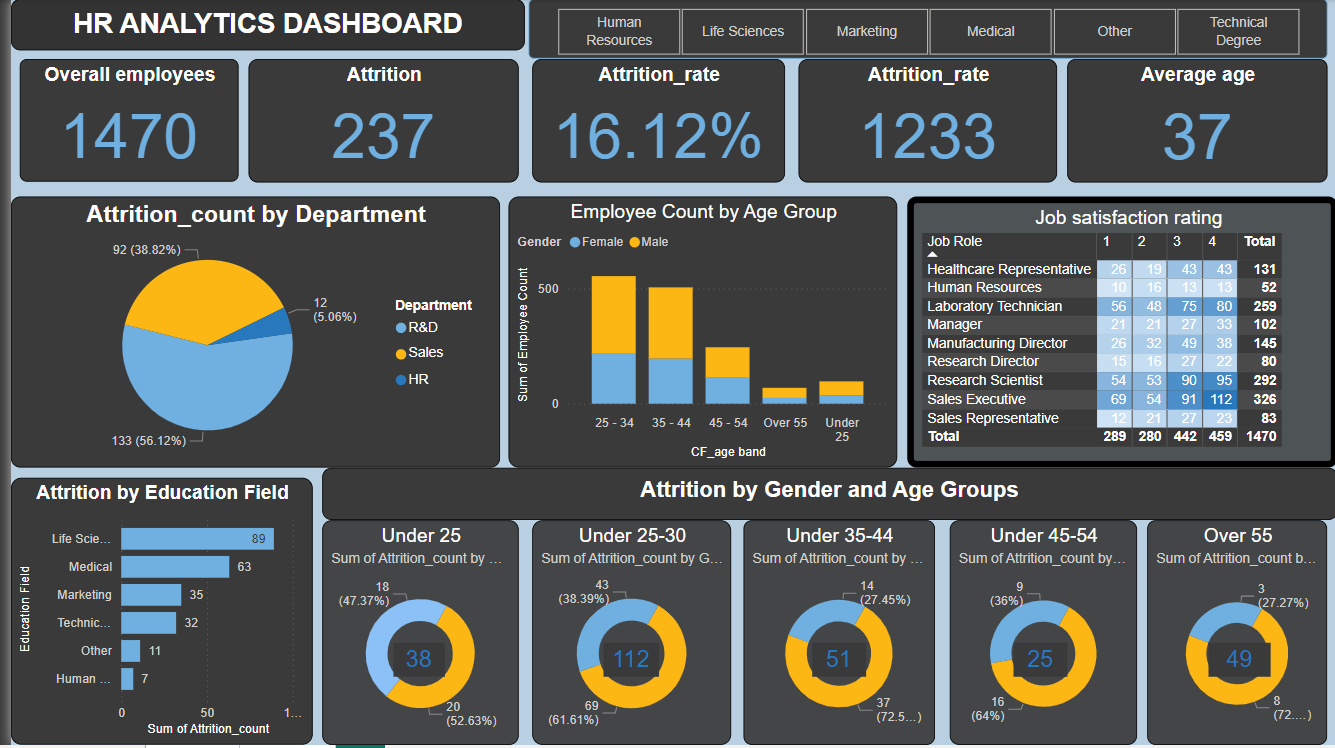

This screenshot's page, from the dashboard's own definition file:
{"tool":"powerbi","page":{"name":"Page 1","canvas":[1280,720],"ordinal":0},"visuals":[{"type":"card","title":"Overall employees","fields":{"Values":["Sum(HR data.Employee Count)"]},"box":[8.4,57.9,211.1,118.2],"z":0},{"type":"card","title":"Attrition","fields":{"Values":["Sum(HR data.Attrition_count)"]},"box":[229.2,57.9,260.6,119.4],"z":1000},{"type":"card","title":"Attrition_rate","fields":{"Values":["HR data.Attition_rate"]},"box":[503.1,57.9,243.7,119.4],"z":2000},{"type":"card","title":"Attrition_rate","fields":{"Values":["HR data.Active employees"]},"box":[760.1,57.9,249.7,119.4],"z":3000},{"type":"card","title":"Average age","fields":{"Values":["Avg(HR data.Age)"]},"box":[1019.4,57.9,250.9,119.4],"z":4000},{"type":"pieChart","title":"Attrition_count by Department","fields":{"Category":["HR data.Department"],"Y":["Sum(HR data.Attrition_count)"]},"box":[0,190.6,471.7,261.8],"z":5000},{"type":"columnChart","title":"Employee Count by Age Group","fields":{"Category":["HR data.CF_age band"],"Y":["Sum(HR data.Employee Count)"],"Series":["HR data.Gender"]},"box":[480.2,190.6,375.2,261.8],"z":6000},{"type":"pivotTable","title":"Job satisfaction rating","fields":{"Rows":["HR data.Job Role"],"Columns":["HR data.Job Satisfaction"],"Values":["Sum(HR data.Employee Count)"]},"box":[865,190.6,415,261.8],"z":7000},{"type":"barChart","title":"Attrition by Education Field","fields":{"Category":["HR data.Education Field"],"Y":["Sum(HR data.Attrition_count)"]},"box":[0,462.4,290.9,258],"z":8000},{"type":"donutChart","title":"Under 25","fields":{"Category":["HR data.Gender"],"Y":["Sum(HR data.Attrition_count)"],"Series":["HR data.CF_age band"]},"box":[300.4,503.1,189.4,217.2],"z":9000},{"type":"textbox","box":[300.4,452.4,979.6,50.7],"z":10000},{"type":"donutChart","title":"Under 25-30","fields":{"Category":["HR data.Gender"],"Y":["Sum(HR data.Attrition_count)"],"Series":["HR data.CF_age band"]},"box":[503.6,503.6,192.1,216.8],"z":11000},{"type":"donutChart","title":"Under 35-44","fields":{"Category":["HR data.Gender"],"Y":["Sum(HR data.Attrition_count)"],"Series":["HR data.CF_age band"]},"box":[707,503.1,184.6,217.2],"z":12000},{"type":"donutChart","title":"Under 45-54","fields":{"Category":["HR data.Gender"],"Y":["Sum(HR data.Attrition_count)"],"Series":["HR data.CF_age band"]},"box":[906,503.1,181,217.2],"z":13000},{"type":"donutChart","title":"Over 55","fields":{"Category":["HR data.Gender"],"Y":["Sum(HR data.Attrition_count)"],"Series":["HR data.CF_age band"]},"box":[1096.7,503.1,173.7,217.2],"z":14000},{"type":"textbox","box":[0,0,495.8,49.5],"z":15000},{"type":"slicer","fields":{"Values":["HR data.Education Field"]},"box":[499.5,0,770.9,57.9],"z":16000},{"type":"card","fields":{"Values":["Sum(HR data.Attrition_count)"]},"box":[369.1,621.6,49.4,32.9],"z":17000},{"type":"card","fields":{"Values":["Sum(HR data.Attrition_count)"]},"box":[572.2,621.6,53.5,32.9],"z":18000},{"type":"card","fields":{"Values":["Sum(HR data.Attrition_count)"]},"box":[773.9,621.6,52.1,32.9],"z":19000},{"type":"card","fields":{"Values":["Sum(HR data.Attrition_count)"]},"box":[967.4,621.6,52.1,32.9],"z":20000},{"type":"card","fields":{"Values":["Sum(HR data.Attrition_count)"]},"box":[1155.4,621.6,60.4,32.9],"z":21000}]}

Visuals, with their boxes in screenshot pixels (x1, y1, x2, y2), scaled from the page's 1280x720 canvas onto the 1335x748 screenshot:
"Overall employees" card: [left=9, top=60, right=229, bottom=183]
"Attrition" card: [left=239, top=60, right=511, bottom=184]
"Attrition_rate" card: [left=525, top=60, right=779, bottom=184]
"Attrition_rate" card: [left=793, top=60, right=1053, bottom=184]
"Average age" card: [left=1063, top=60, right=1325, bottom=184]
"Attrition_count by Department" pieChart: [left=0, top=198, right=492, bottom=470]
"Employee Count by Age Group" columnChart: [left=501, top=198, right=892, bottom=470]
"Job satisfaction rating" pivotTable: [left=902, top=198, right=1334, bottom=470]
"Attrition by Education Field" barChart: [left=0, top=480, right=303, bottom=747]
"Under 25" donutChart: [left=313, top=523, right=511, bottom=747]
textbox: [left=313, top=470, right=1334, bottom=523]
"Under 25-30" donutChart: [left=525, top=523, right=726, bottom=747]
"Under 35-44" donutChart: [left=737, top=523, right=930, bottom=747]
"Under 45-54" donutChart: [left=945, top=523, right=1134, bottom=747]
"Over 55" donutChart: [left=1144, top=523, right=1325, bottom=747]
textbox: [left=0, top=0, right=517, bottom=51]
slicer - HR data.Education Field: [left=521, top=0, right=1325, bottom=60]
card - Sum(HR data.Attrition_count): [left=385, top=646, right=436, bottom=680]
card - Sum(HR data.Attrition_count): [left=597, top=646, right=653, bottom=680]
card - Sum(HR data.Attrition_count): [left=807, top=646, right=861, bottom=680]
card - Sum(HR data.Attrition_count): [left=1009, top=646, right=1063, bottom=680]
card - Sum(HR data.Attrition_count): [left=1205, top=646, right=1268, bottom=680]
